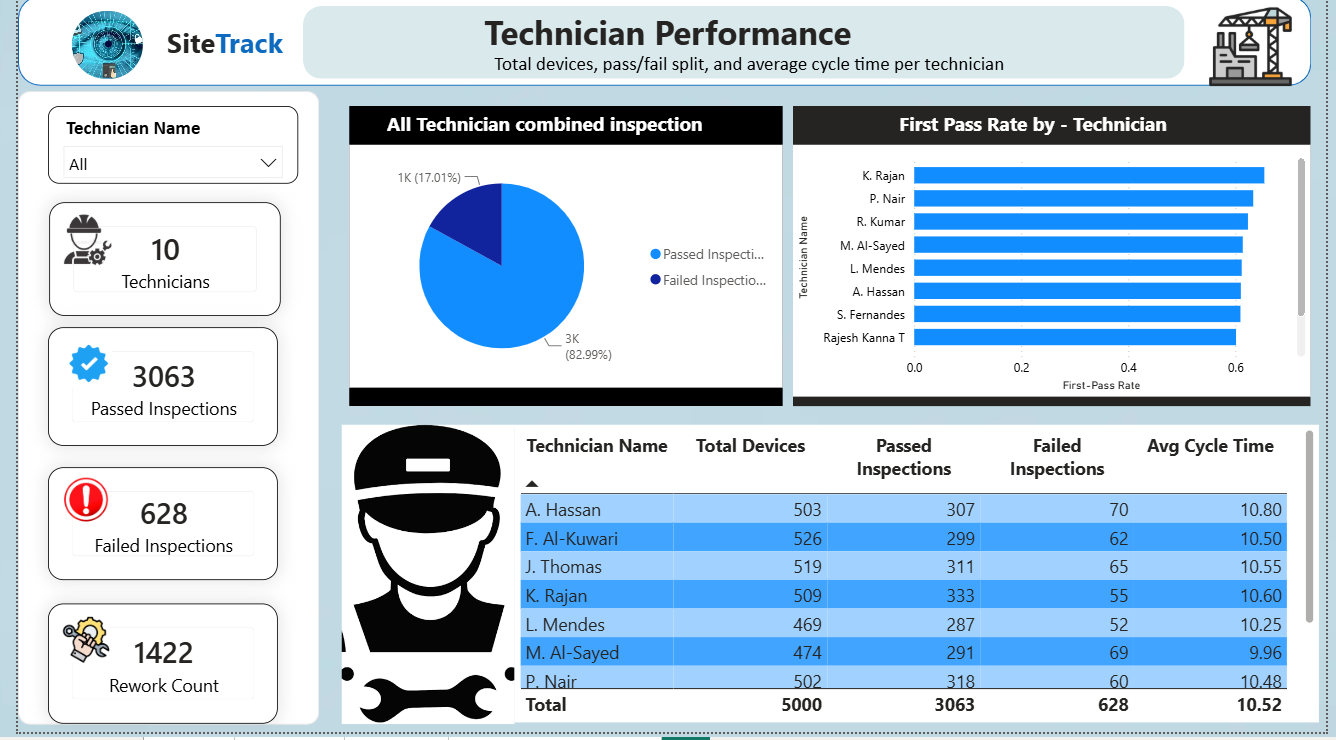

This screenshot's page, from the dashboard's own definition file:
{"tool":"powerbi","page":{"name":"Technician Performance","canvas":[1280,720],"ordinal":3},"visuals":[{"type":"shape","box":[0,0,1265.2,87.8],"z":0},{"type":"shape","box":[278.8,10,862.5,71.2],"z":1000},{"type":"textbox","box":[141,22.1,175.3,53.9],"z":2000},{"type":"textbox","box":[451.2,8.6,518.5,99],"z":3000},{"type":"image","box":[52.7,14.7,69.9,66.2],"z":4000},{"type":"textbox","box":[461,9.8,544.2,78.3],"z":5000},{"type":"image","box":[1139.7,7.3,132.1,80.7],"z":6000},{"type":"tableEx","fields":{"Values":["Dim_Technician.Technician Name","Dim_Client.Total Devices","Fact_Installation.Passed Inspections","Fact_Installation.Failed Inspections","Fact_Installation.Avg Cycle Time"]},"box":[485,420,787.5,291.2],"z":7000},{"type":"shape","box":[758.8,107.5,506.2,293.8],"z":8000},{"type":"shape","box":[0,92.9,294.7,620],"z":9000},{"type":"barChart","title":"Devices By System Type","fields":{"Category":["Dim_Technician.Technician Name"],"Y":["Fact_Installation.First-Pass Rate"]},"box":[758.8,145,506.2,246.2],"z":10000},{"type":"shape","box":[324.1,107.6,424.3,293.5],"z":11000},{"type":"cardVisual","fields":{"Data":["Fact_Installation.Failed Inspections"]},"box":[28.8,461.2,225,110.1],"z":11000,"group":"g2"},{"type":"pieChart","fields":{"Y":["Fact_Installation.Passed Inspections","Fact_Installation.Failed Inspections"]},"box":[323.8,145,423.8,237.5],"z":12000},{"type":"cardVisual","fields":{"Data":["Fact_Installation.Passed Inspections"]},"box":[28.8,323.8,225,116.2],"z":12000,"group":"g4"},{"type":"textbox","box":[356.2,107.5,380,66.2],"z":13000},{"type":"cardVisual","fields":{"Data":["Fact_Installation.Technicains"]},"box":[30,202.5,226.2,111.2],"z":13000,"group":"g1"},{"type":"slicer","fields":{"Values":["Dim_Technician.Technician Name"]},"box":[29.3,107.6,244.6,75.8],"z":14000},{"type":"textbox","box":[857.5,107.5,380,57.5],"z":15000},{"type":"cardVisual","fields":{"Data":["Fact_Installation.Rework Count"]},"box":[28.8,593.8,225,117.4],"z":15000,"group":"g3"},{"type":"image","box":[316.2,420,168.8,292.5],"z":16000},{"type":"group","id":"g1","title":"Group 1","box":[28.8,192.5,227.5,121.2],"z":17000},{"type":"image","box":[28.8,192.5,77.5,95],"z":17003,"group":"g1"},{"type":"image","box":[37,469.7,57.5,46.2],"z":17004,"group":"g2"},{"type":"image","box":[37,606.3,57.5,46.2],"z":17005,"group":"g3"},{"type":"image","box":[39.4,335.6,57.5,46.2],"z":17006,"group":"g4"},{"type":"group","id":"g2","title":"Group 2","box":[28.8,461.2,225,110],"z":18000},{"type":"group","id":"g3","title":"Group 3","box":[28.8,593.8,225,117.5],"z":19000},{"type":"group","id":"g4","title":"Group 4","box":[28.8,323.8,225,116.2],"z":20000}]}

Visuals, with their boxes in screenshot pixels (x1, y1, x2, y2), scaled from the page's 1280x720 canvas onto the 1336x740 screenshot:
shape: [0, 0, 1321, 90]
shape: [291, 10, 1191, 83]
textbox: [147, 23, 330, 78]
textbox: [471, 9, 1012, 111]
image: [55, 15, 128, 83]
textbox: [481, 10, 1049, 91]
image: [1190, 8, 1327, 90]
tableEx - Dim_Technician.Technician Name x Dim_Client.Total Devices: [506, 432, 1328, 731]
shape: [792, 110, 1320, 412]
shape: [0, 95, 308, 733]
"Devices By System Type" barChart: [792, 149, 1320, 402]
shape: [338, 111, 781, 412]
cardVisual - Fact_Installation.Failed Inspections: [30, 474, 265, 587]
pieChart - Fact_Installation.Passed Inspections x Fact_Installation.Failed Inspections: [338, 149, 780, 393]
cardVisual - Fact_Installation.Passed Inspections: [30, 333, 265, 452]
textbox: [372, 110, 768, 179]
cardVisual - Fact_Installation.Technicains: [31, 208, 267, 322]
slicer - Dim_Technician.Technician Name: [31, 111, 286, 188]
textbox: [895, 110, 1292, 170]
cardVisual - Fact_Installation.Rework Count: [30, 610, 265, 731]
image: [330, 432, 506, 732]
"Group 1" group: [30, 198, 268, 322]
image: [30, 198, 111, 295]
image: [39, 483, 99, 530]
image: [39, 623, 99, 671]
image: [41, 345, 101, 392]
"Group 2" group: [30, 474, 265, 587]
"Group 3" group: [30, 610, 265, 731]
"Group 4" group: [30, 333, 265, 452]
